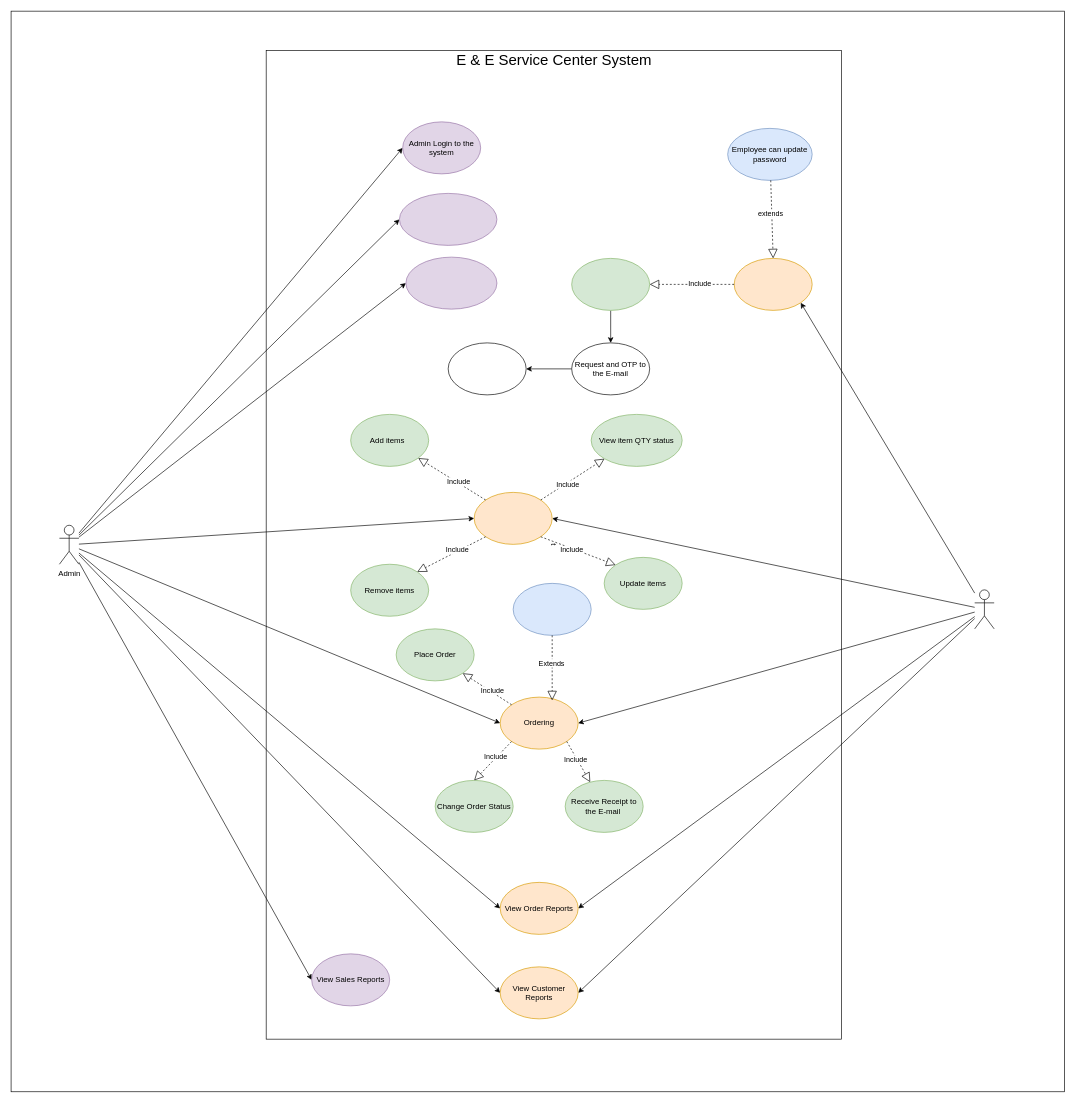
This 1076x1104 diagram has some shape labels left out. Each missing label, with the centre of its shape:
"Add employees to the system (Signup)" belongs at [448,219].
"Add new Password" belongs at [487,368].
"Employee" belongs at [984,609].
"Employee Login to the system" belongs at [773,284].
"Forget password" belongs at [610,284].
"Inventory management" belongs at [513,518].
"Remove employees from System" belongs at [451,282].
"Return Order (Cancel Order)" belongs at [552,609].
